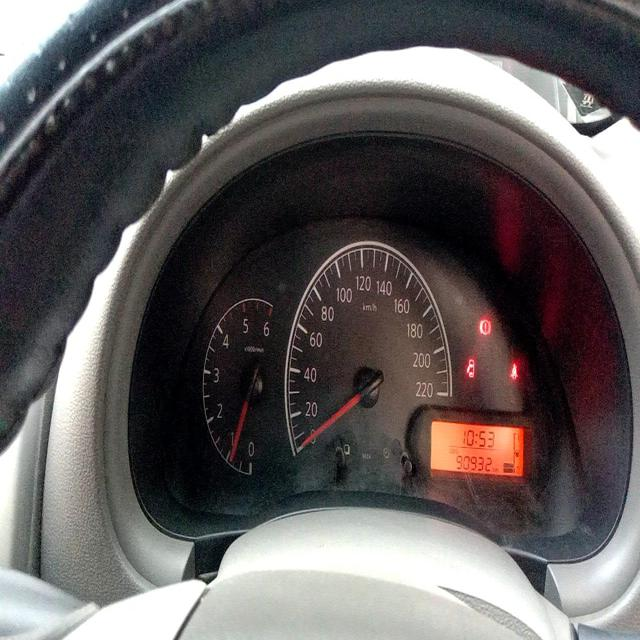odometer: (452, 452, 494, 476)
